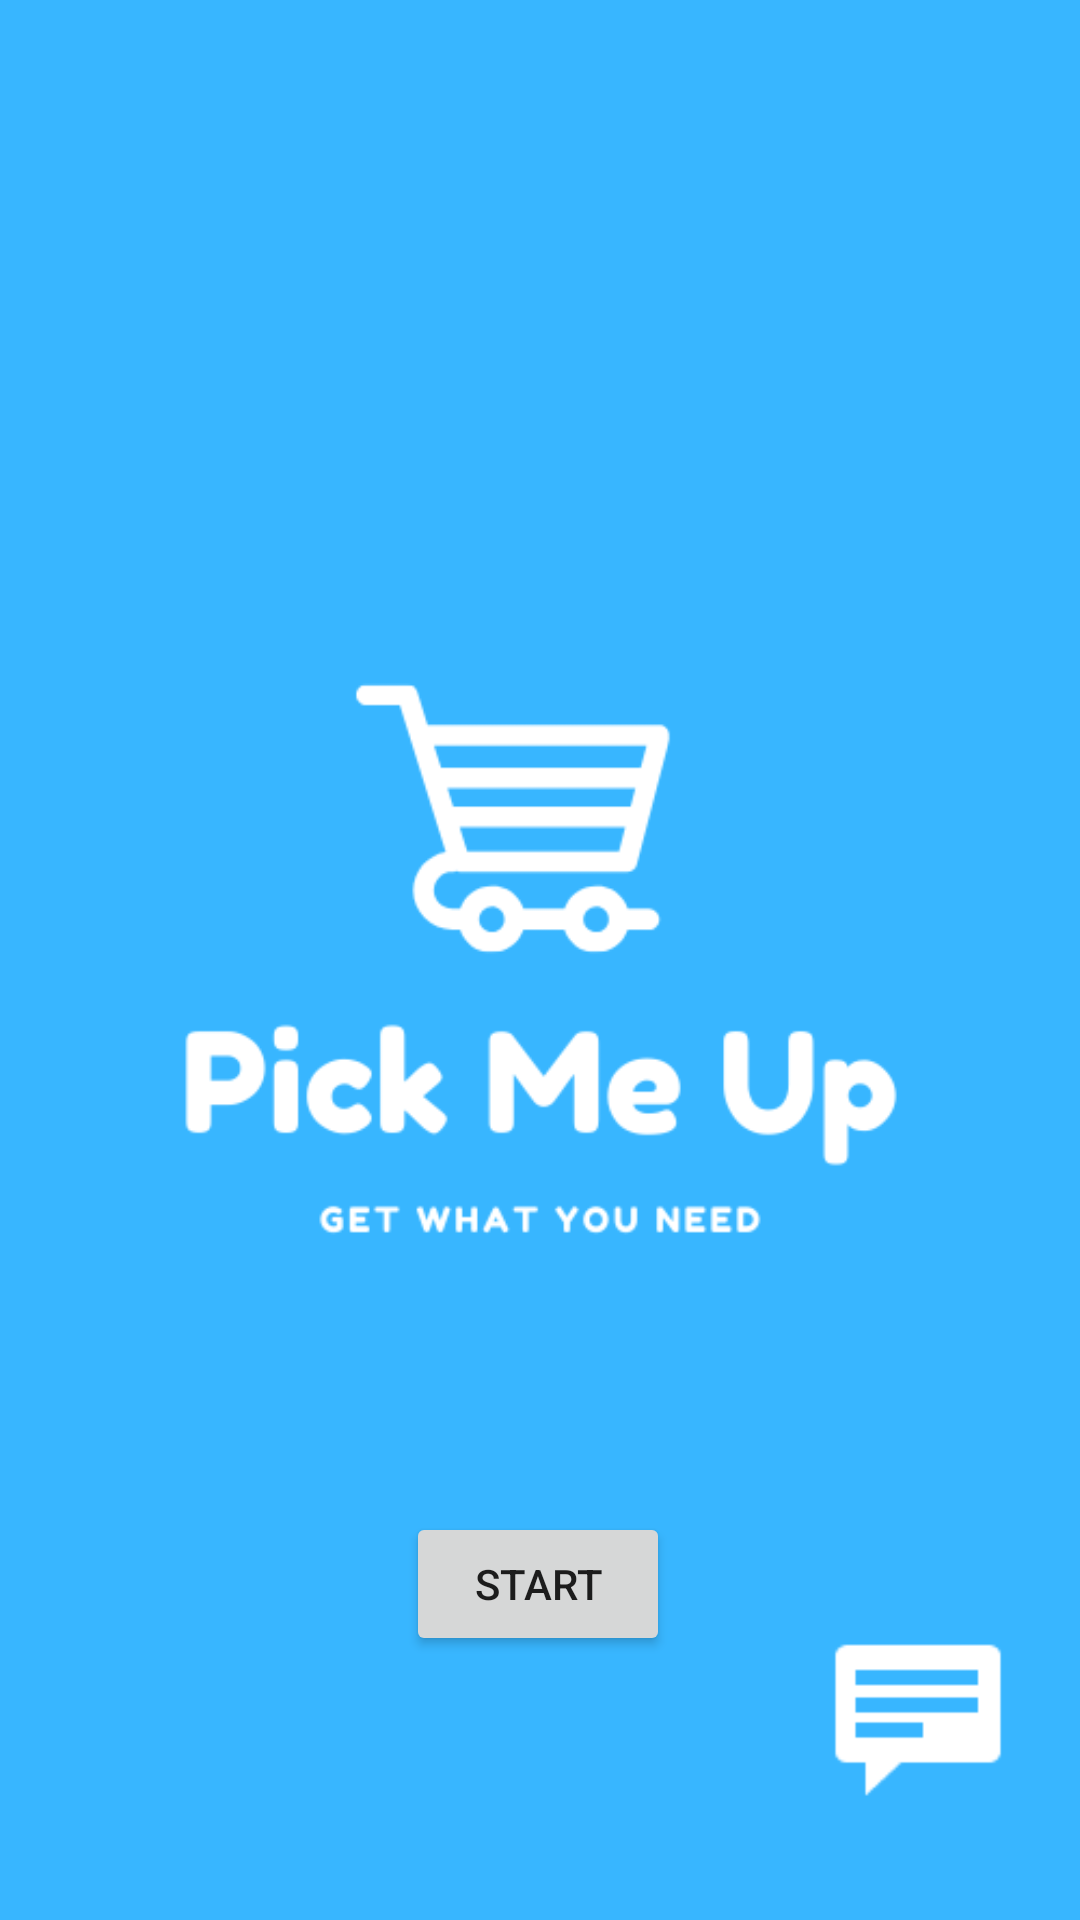

Where to tap for icons on this 1080px×1920px app screen, as point (x, y):
chatbot: point (918, 1720)
